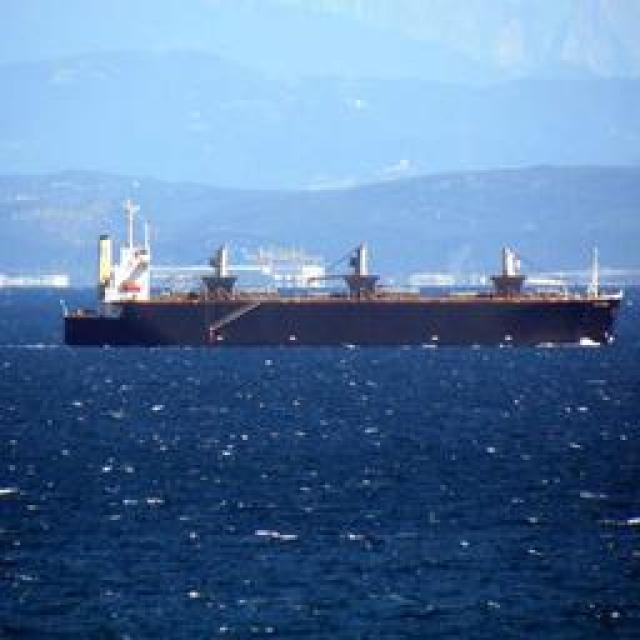CIV_Ship: (74, 255, 618, 345)
